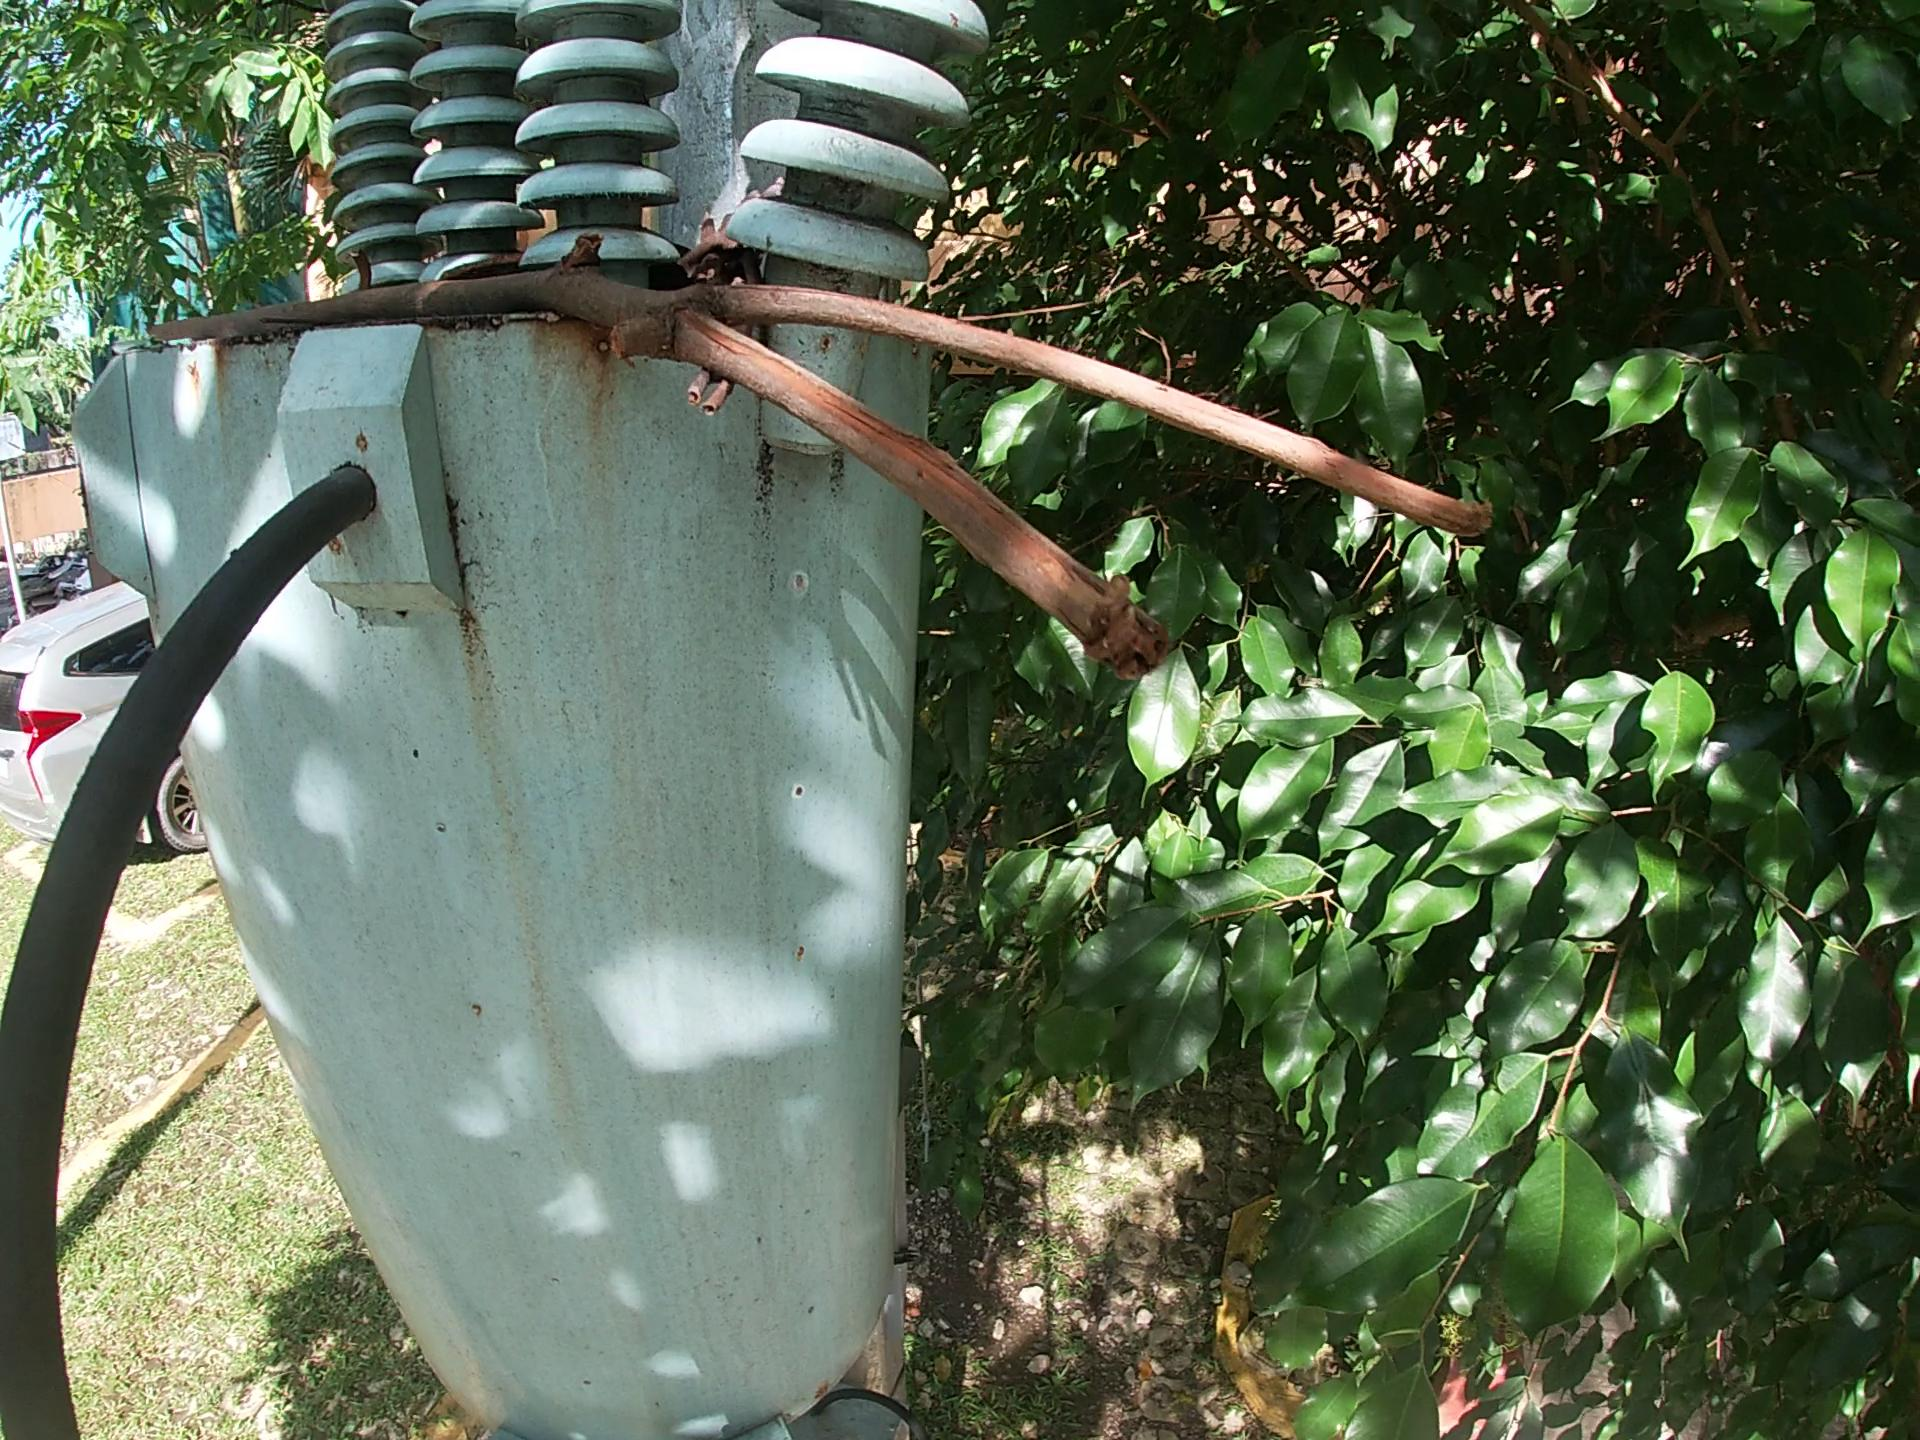mahogany fruit: (345, 248, 379, 290)
tree branch: (135, 213, 1504, 688), (671, 203, 753, 428)
